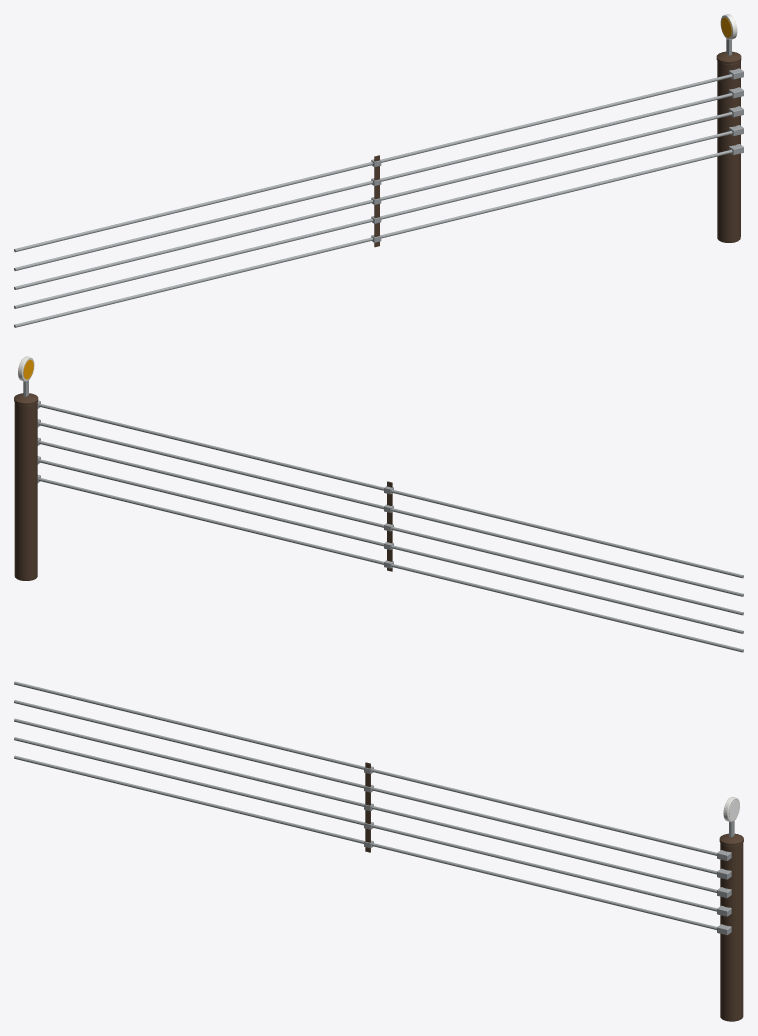
The model's file is mountain_guardrail_cable_brown.fbx.
The picture shows the model from 3 angles, top to bottom: view 1: azimuth 30°, elevation 25°; view 2: azimuth 150°, elevation 25°; view 3: azimuth 330°, elevation 25°; orthographic projection.
Visible parts, largest first — view 1: mountain_guardrail_cable_brown; view 2: mountain_guardrail_cable_brown; view 3: mountain_guardrail_cable_brown.
Part boxes in pixels (x1,y1,x2,y2): mountain_guardrail_cable_brown: (14,14,743,327); mountain_guardrail_cable_brown: (14,356,743,652); mountain_guardrail_cable_brown: (14,681,743,1021).
Size of the model in its own units: 4.06 by 1.18 by 0.1592.
